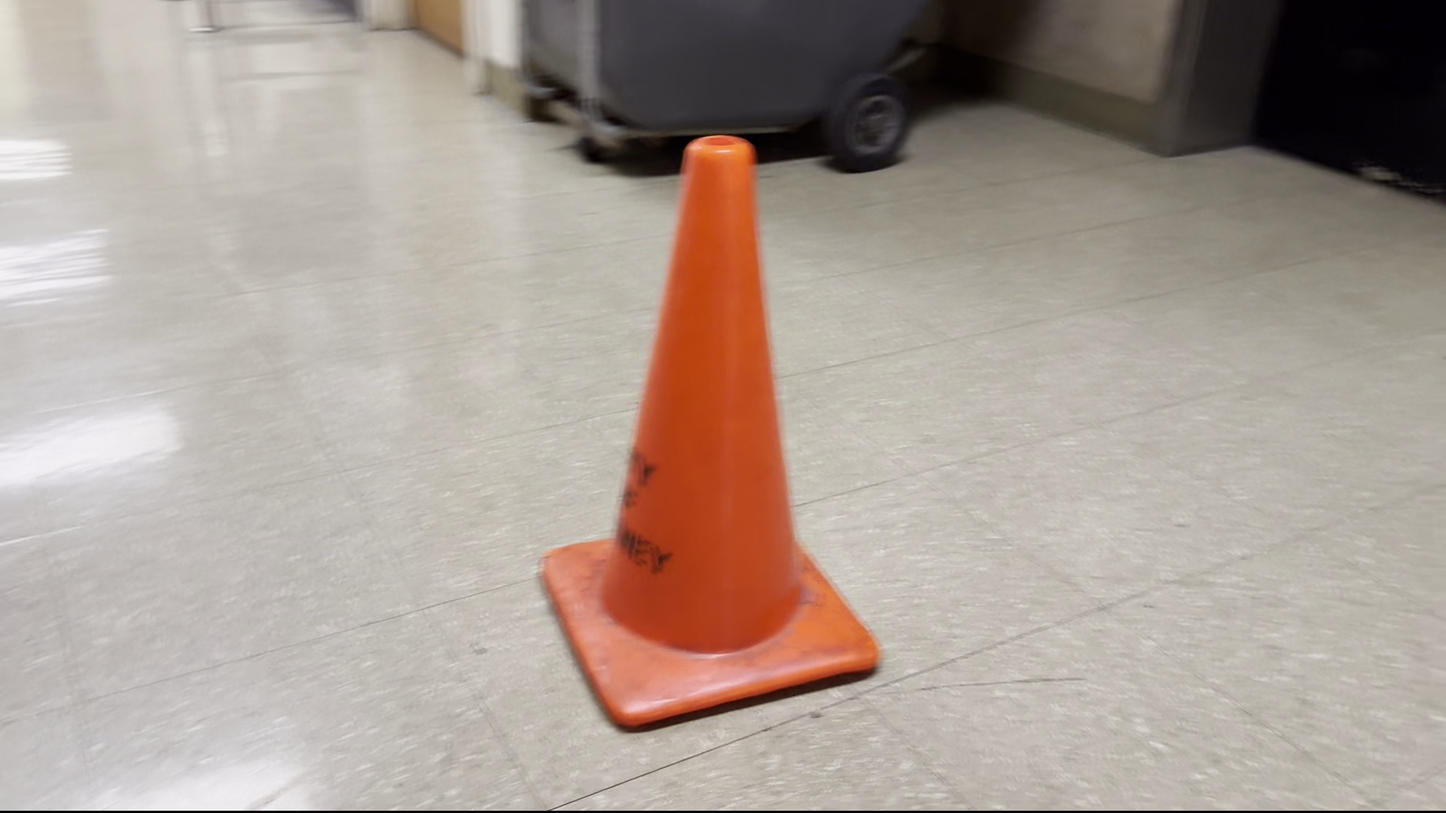traffic_cone: (540, 133, 881, 730)
